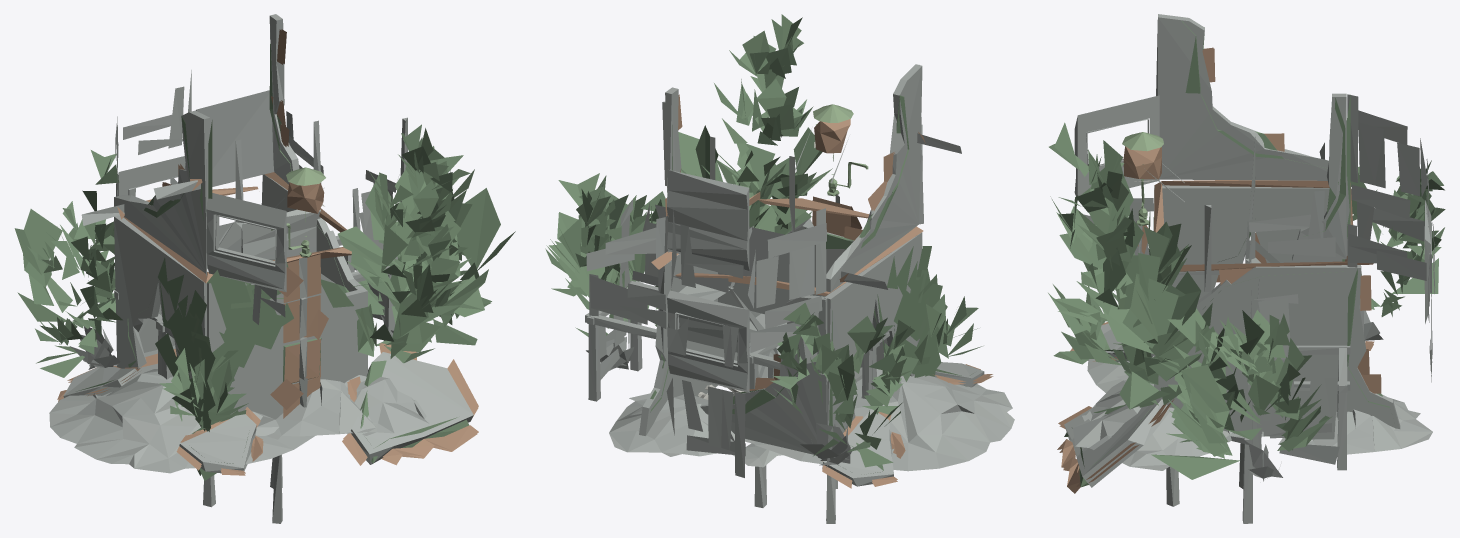
The model's file is water_well_e.glb.
The picture shows the model from 3 angles, left to right: view 1: azimuth 30°, elevation 25°; view 2: azimuth 150°, elevation 25°; view 3: azimuth 270°, elevation 25°; orthographic projection. The views are drawn at different scales.
Visible parts, largest first — view 1: floor.triangle_a_LOD0, industrial_bld_ruin_a_LOD0, small_planter_soil, water_well_handle_LOD0; view 2: floor.triangle_a_LOD0, industrial_bld_ruin_a_LOD0, small_planter_soil, water_well_handle_LOD0; view 3: floor.triangle_a_LOD0, industrial_bld_ruin_a_LOD0, small_planter_soil, water_well_handle_LOD0.
Part boxes in pixels (x1,y1,x2,y2): floor.triangle_a_LOD0: [49, 14, 473, 523]; industrial_bld_ruin_a_LOD0: [14, 43, 515, 480]; small_planter_soil: [57, 29, 478, 475]; water_well_handle_LOD0: [271, 167, 325, 257]; floor.triangle_a_LOD0: [585, 64, 1014, 523]; industrial_bld_ruin_a_LOD0: [545, 14, 982, 473]; small_planter_soil: [651, 94, 993, 488]; water_well_handle_LOD0: [813, 104, 868, 196]; floor.triangle_a_LOD0: [1064, 14, 1435, 523]; industrial_bld_ruin_a_LOD0: [1048, 21, 1445, 487]; small_planter_soil: [1057, 47, 1381, 493]; water_well_handle_LOD0: [1122, 132, 1163, 225].
Size of the model in its own units: 16.87 by 15.75 by 12.81.
